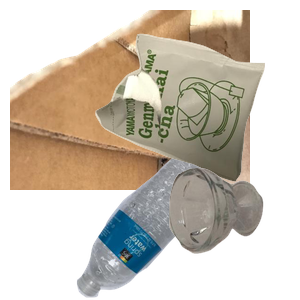cardboard: (10, 10, 250, 190)
glass: (166, 165, 300, 300)
plastic: (74, 156, 280, 300)
trash: (93, 31, 300, 205)
